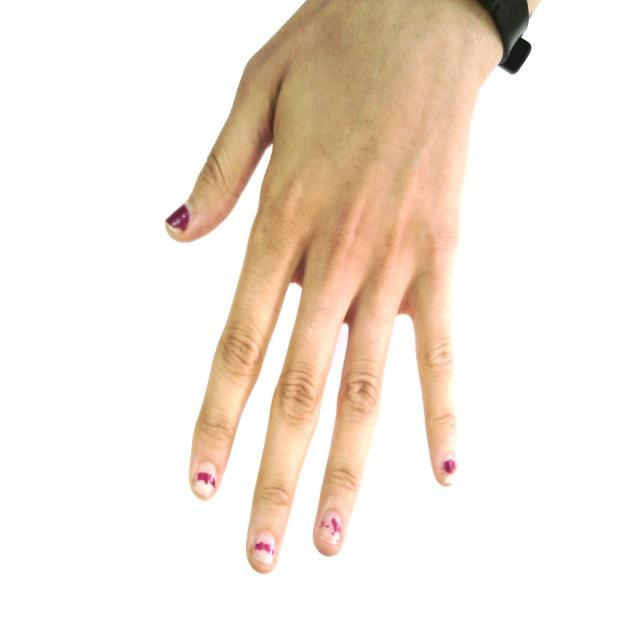Fingernail: (253, 532, 275, 565), (320, 512, 342, 544), (194, 466, 215, 499), (167, 207, 188, 232), (442, 458, 456, 482)
